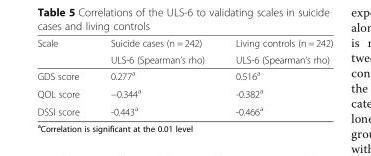table: (36, 37, 332, 116)
table column: (94, 37, 219, 116), (219, 37, 332, 116), (36, 37, 94, 116)
table column header: (36, 37, 332, 66)
table row: (36, 83, 332, 101), (36, 66, 332, 83), (36, 50, 332, 66), (36, 101, 332, 116), (36, 37, 332, 50)
table spanning cell: (94, 37, 219, 66), (219, 37, 332, 66), (36, 37, 94, 66)
